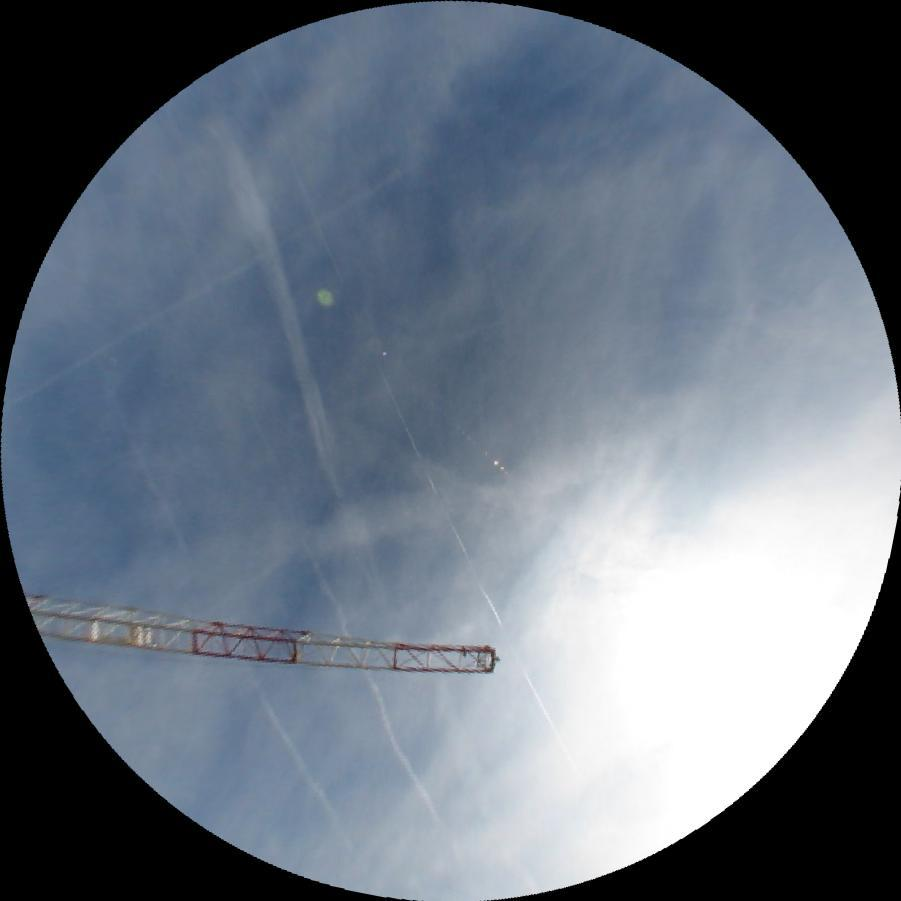contrail old: (185, 269, 440, 829), (107, 406, 353, 850)
contrail young: (278, 149, 574, 769), (0, 167, 402, 413)
